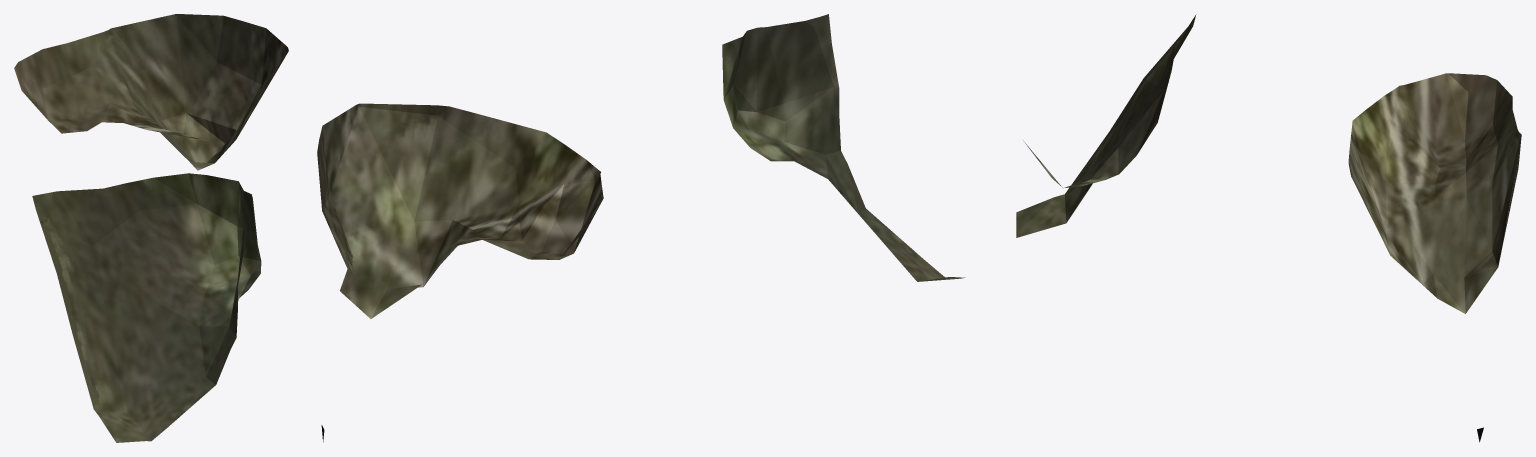
3 views of the same model, side by side, from view 1: azimuth 30°, elevation 25°; view 2: azimuth 150°, elevation 25°; view 3: azimuth 270°, elevation 25° (orthographic). The views are drawn at different scales.
Size of the model in its own units: 2.43 by 1.61 by 2.86.
2 materials, 2 textured.
